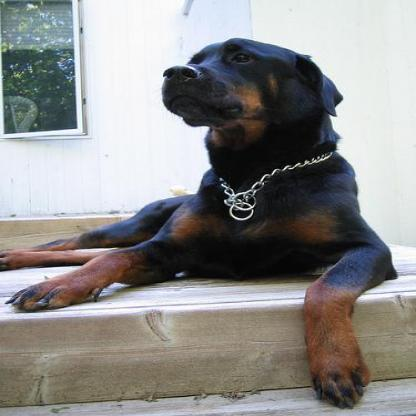Rottweiler: (0, 29, 400, 409)
